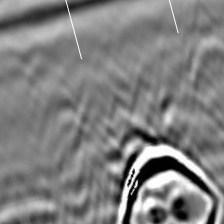Utility: (116, 140, 224, 224)
